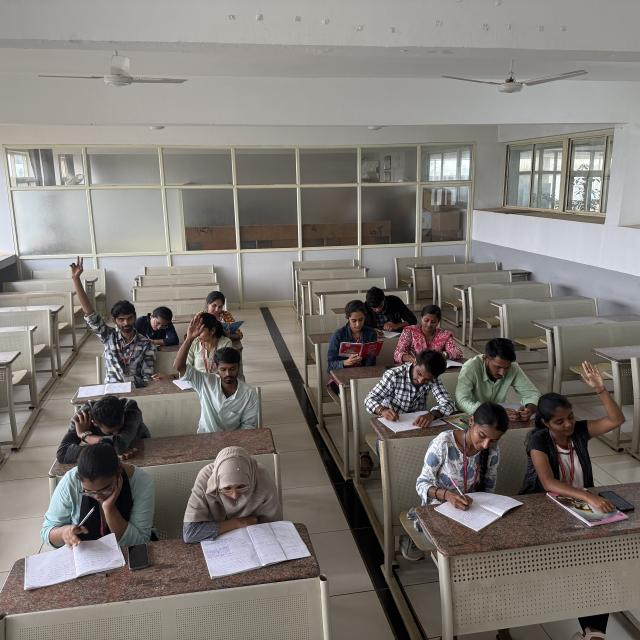Hand Rising: (522, 356, 622, 482), (172, 310, 259, 435), (70, 249, 152, 378)
Reading: (178, 443, 306, 568), (40, 437, 154, 558), (401, 305, 466, 364), (328, 300, 383, 368), (200, 291, 248, 340)
Sleeping: (61, 394, 158, 465)
Writing: (418, 407, 521, 525), (365, 349, 455, 430)
